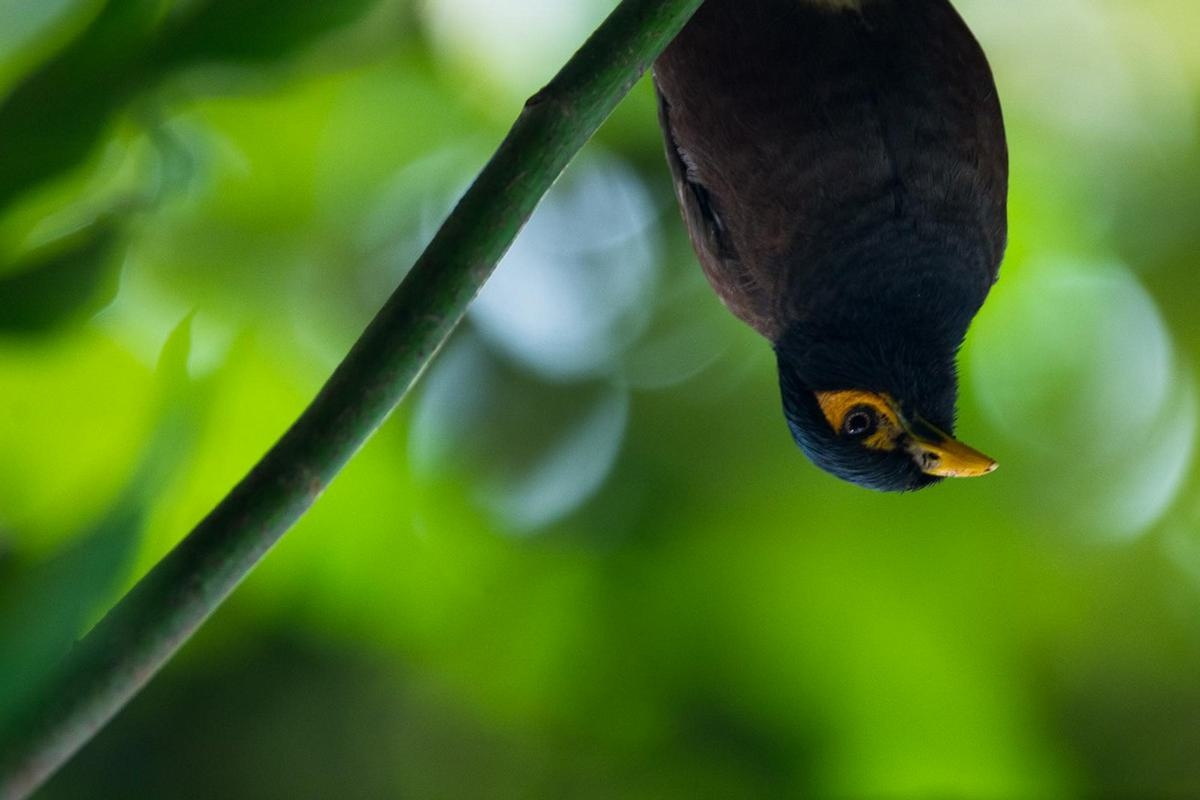myna: (693, 1, 1017, 497)
